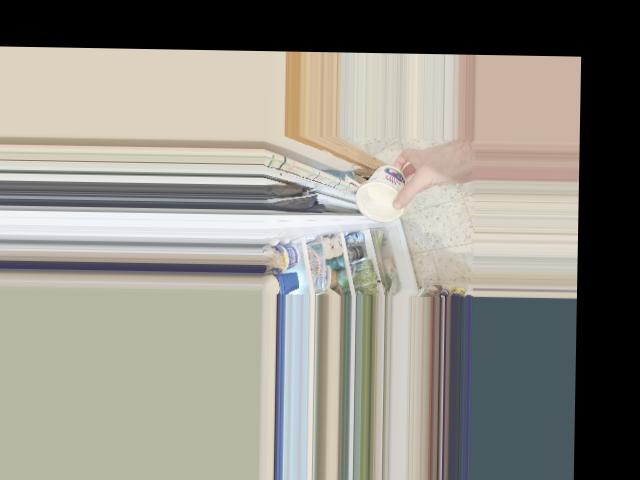cotage: (354, 162, 410, 222)
